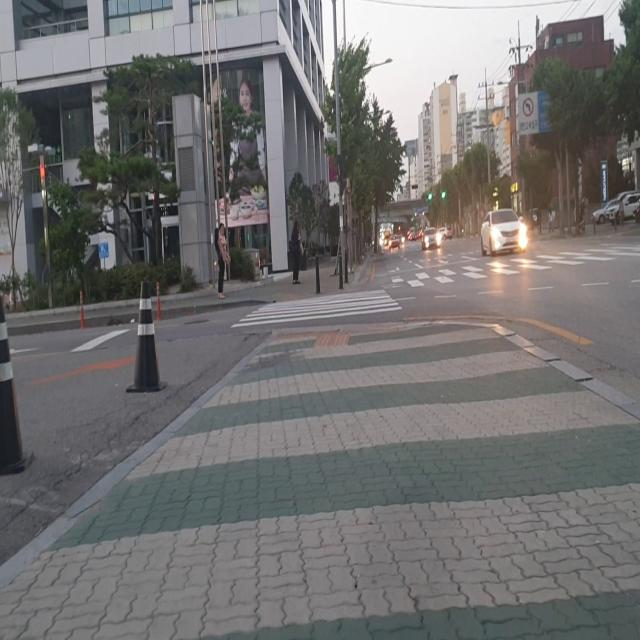횡단보도: (390, 242, 640, 288), (229, 289, 403, 329)
